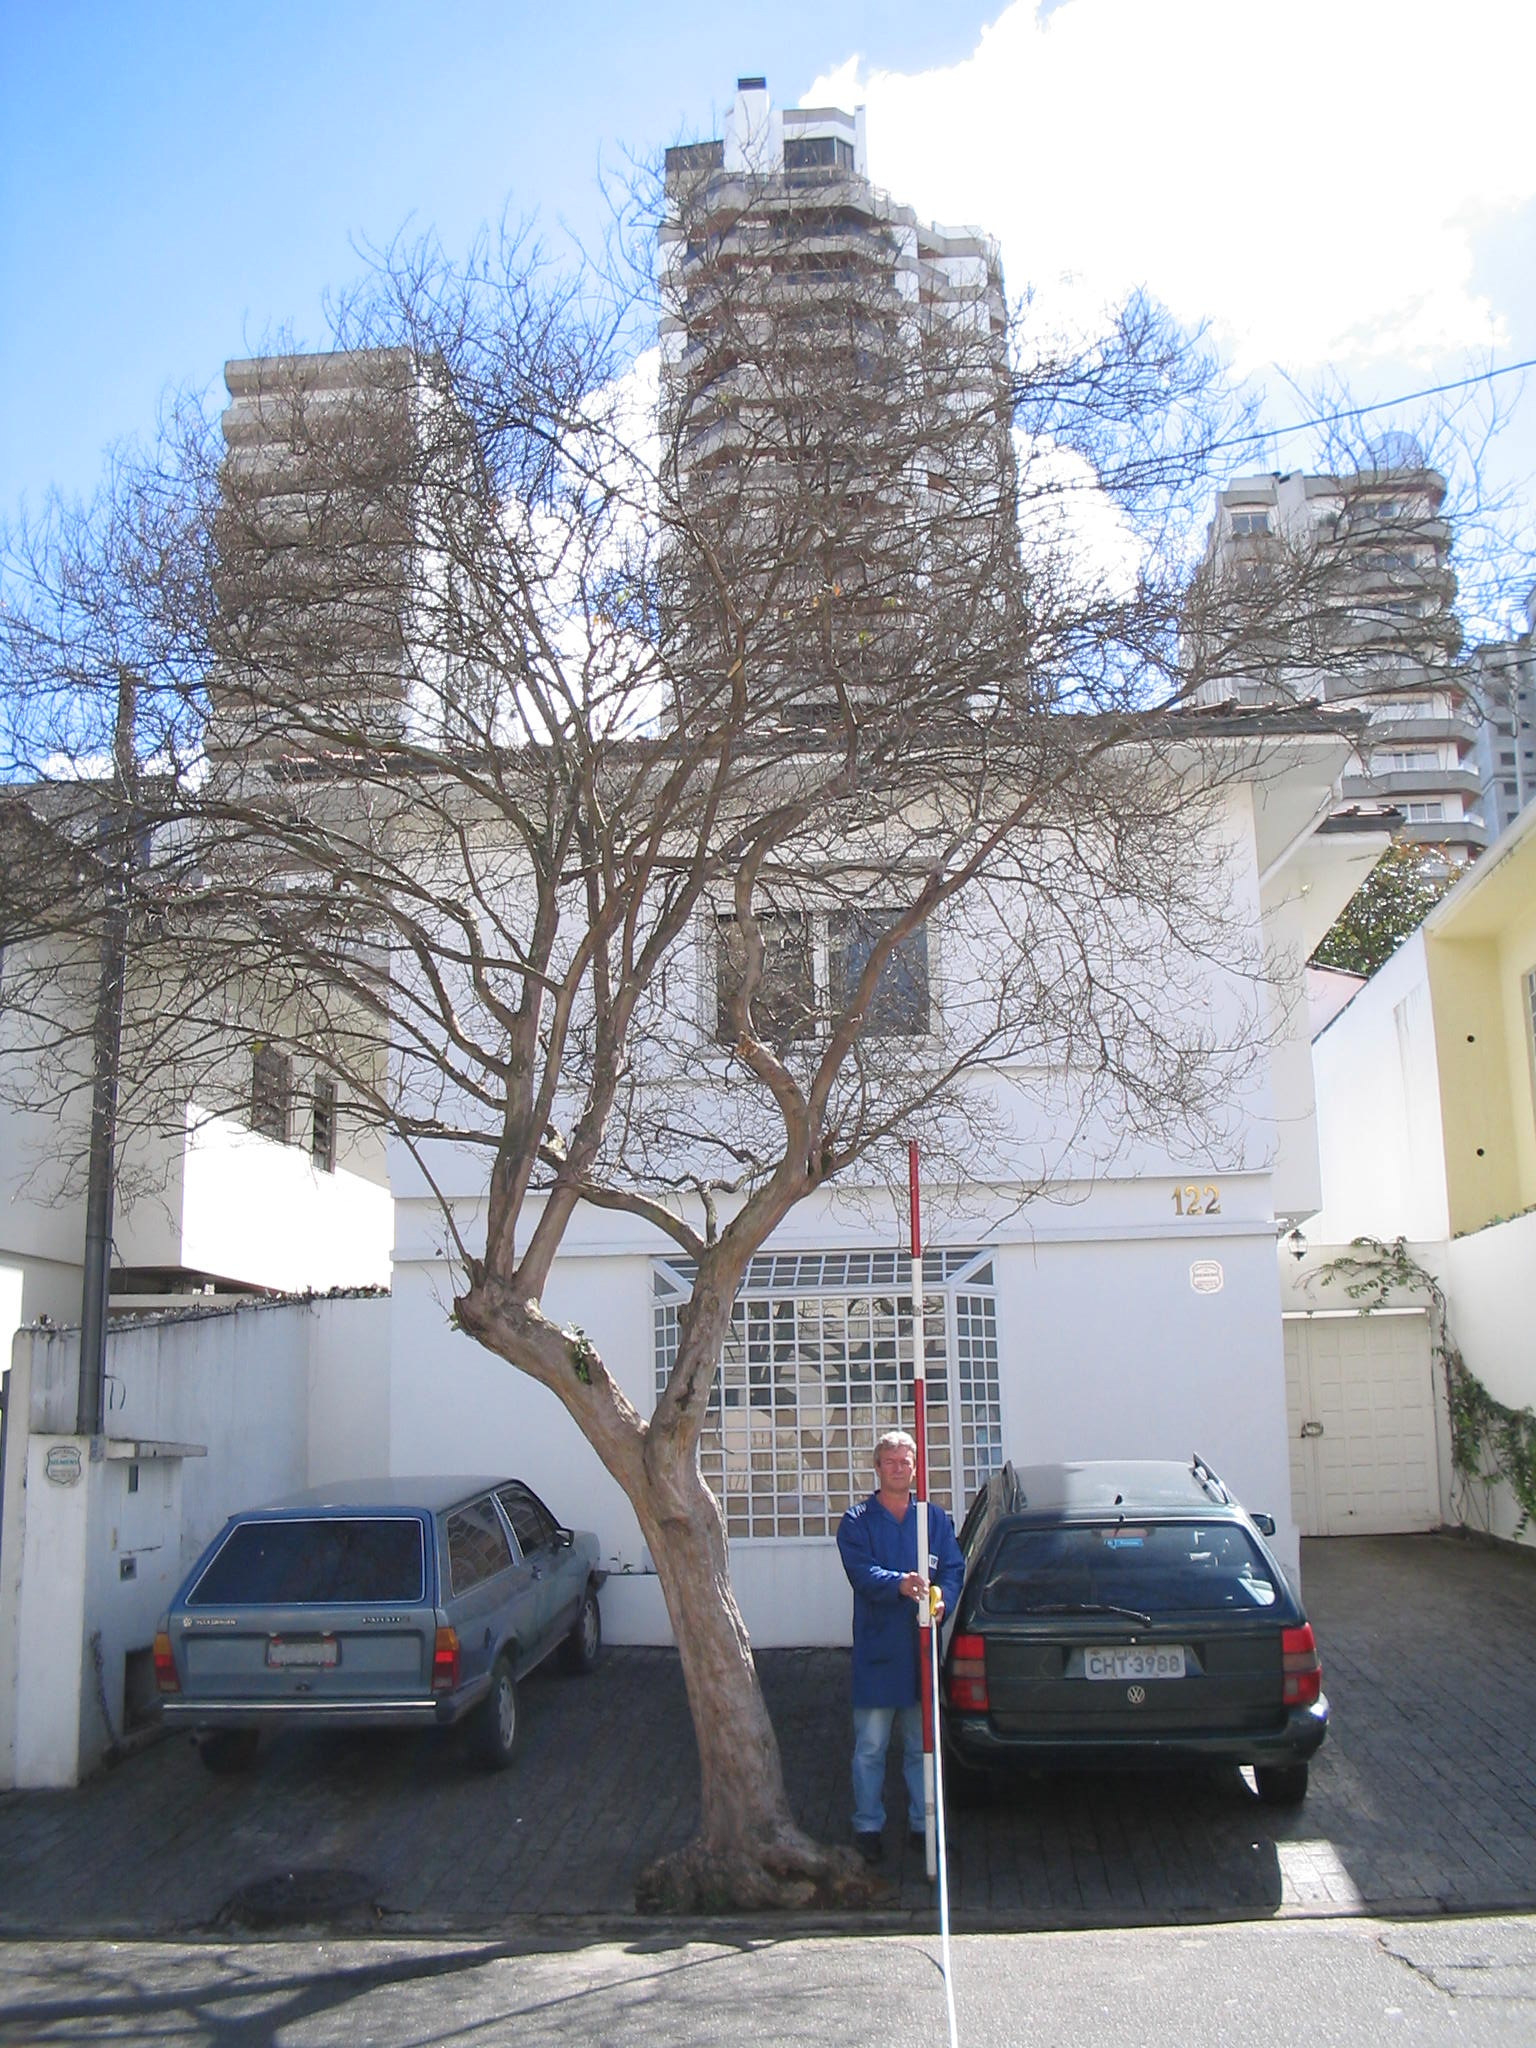stem: (557, 1447, 881, 1903)
stick: (873, 1137, 978, 1884)
tree: (6, 111, 1517, 1917)
